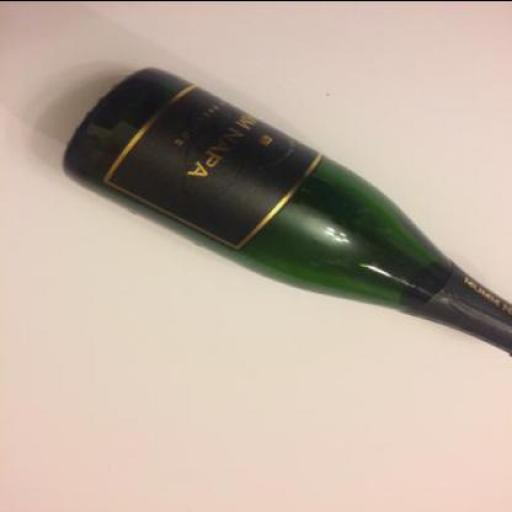glass: (63, 67, 511, 354)
